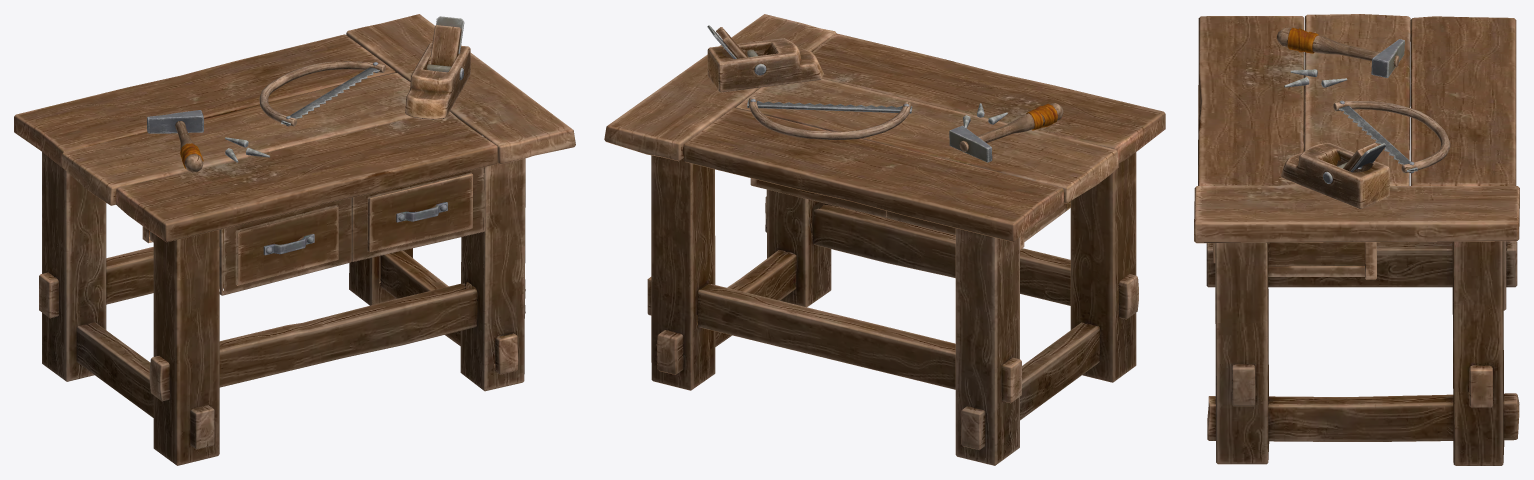
3 renders of one model, left to right at view 1: azimuth 30°, elevation 25°; view 2: azimuth 150°, elevation 25°; view 3: azimuth 270°, elevation 25°, orthographic. The views are drawn at different scales.
Parts seen in each view (by area): view 1: SM_Dec_Workshop_Workbench_LOD0; view 2: SM_Dec_Workshop_Workbench_LOD0; view 3: SM_Dec_Workshop_Workbench_LOD0.
Boxes of the visible parts, x1=… form: SM_Dec_Workshop_Workbench_LOD0: x1=14, y1=14, x2=575, y2=465; SM_Dec_Workshop_Workbench_LOD0: x1=604, y1=14, x2=1165, y2=465; SM_Dec_Workshop_Workbench_LOD0: x1=1194, y1=14, x2=1519, y2=465.
Size of the model in its own units: 1.51 by 1.07 by 0.9851.
2 materials, 2 textured.
